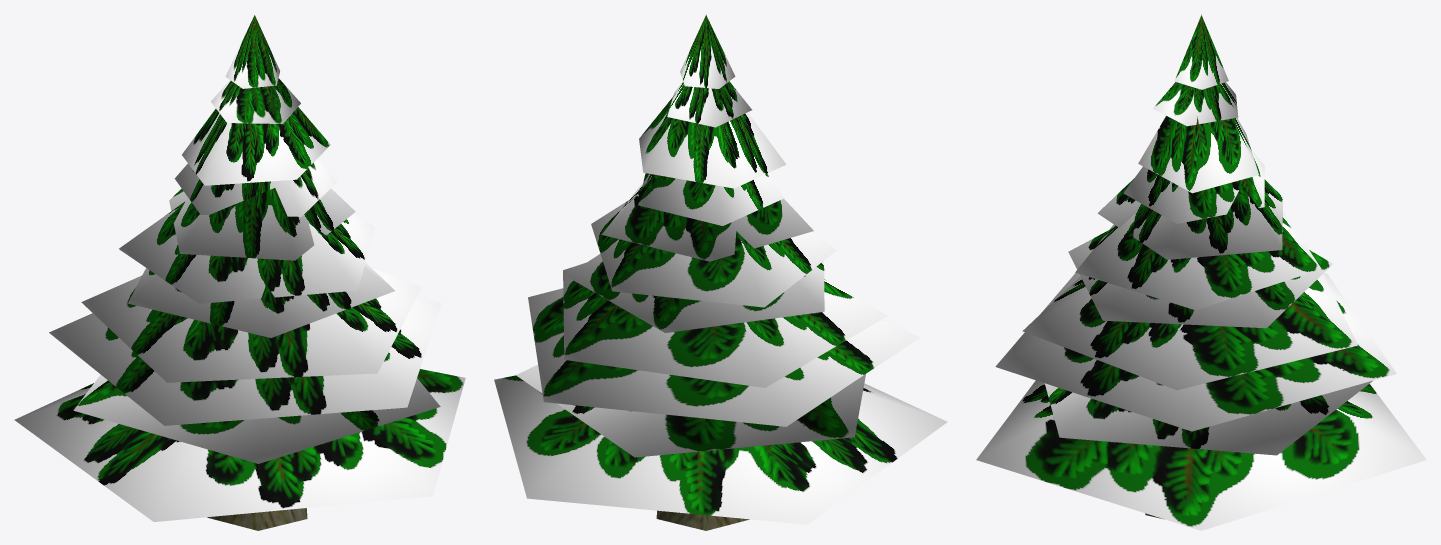
The model's file is fir01.obj.
3 views of the same model, side by side, from view 1: azimuth 30°, elevation 25°; view 2: azimuth 150°, elevation 25°; view 3: azimuth 270°, elevation 25° (orthographic).
Parts seen in each view (by area): view 1: Sphere01, Duplicate03, Duplicate02, Duplicate05, Duplicate01, Duplicate06, Duplicate08, Duplicate04, Duplicate07, Duplicate10, Duplicate09, Cylinder01; view 2: Sphere01, Duplicate02, Duplicate03, Duplicate05, Duplicate01, Duplicate08, Duplicate06, Duplicate04, Duplicate07, Duplicate10, Duplicate09, Cylinder01; view 3: Sphere01, Duplicate03, Duplicate02, Duplicate05, Duplicate01, Duplicate06, Duplicate04, Duplicate08, Duplicate07, Duplicate10, Duplicate09.
Boxes of the visible parts, bbox=[...] form: Sphere01: bbox=[14, 369, 465, 521]; Duplicate03: bbox=[81, 268, 421, 382]; Duplicate02: bbox=[49, 296, 441, 425]; Duplicate05: bbox=[119, 201, 374, 303]; Duplicate01: bbox=[73, 374, 440, 463]; Duplicate06: bbox=[169, 188, 355, 260]; Duplicate08: bbox=[182, 107, 330, 185]; Duplicate04: bbox=[128, 262, 395, 337]; Duplicate07: bbox=[174, 159, 337, 216]; Duplicate10: bbox=[211, 78, 300, 123]; Duplicate09: bbox=[225, 15, 279, 88]; Cylinder01: bbox=[207, 508, 307, 530]; Sphere01: bbox=[494, 375, 947, 524]; Duplicate02: bbox=[528, 288, 919, 426]; Duplicate03: bbox=[563, 262, 887, 387]; Duplicate05: bbox=[591, 200, 836, 307]; Duplicate01: bbox=[516, 364, 865, 457]; Duplicate08: bbox=[639, 93, 786, 188]; Duplicate06: bbox=[601, 177, 813, 261]; Duplicate04: bbox=[566, 253, 824, 332]; Duplicate07: bbox=[638, 173, 783, 225]; Duplicate10: bbox=[667, 81, 751, 127]; Duplicate09: bbox=[680, 15, 735, 88]; Cylinder01: bbox=[656, 14, 749, 530]; Sphere01: bbox=[976, 380, 1426, 530]; Duplicate03: bbox=[1022, 274, 1357, 390]; Duplicate02: bbox=[995, 273, 1396, 431]; Duplicate05: bbox=[1075, 211, 1321, 310]; Duplicate01: bbox=[1044, 380, 1372, 455]; Duplicate06: bbox=[1097, 179, 1283, 259]; Duplicate04: bbox=[1068, 228, 1332, 328]; Duplicate08: bbox=[1138, 116, 1258, 193]; Duplicate07: bbox=[1123, 149, 1264, 223]; Duplicate10: bbox=[1153, 82, 1238, 126]; Duplicate09: bbox=[1174, 15, 1228, 89].
Size of the model in its own units: 85.63 by 105 by 87.83.
